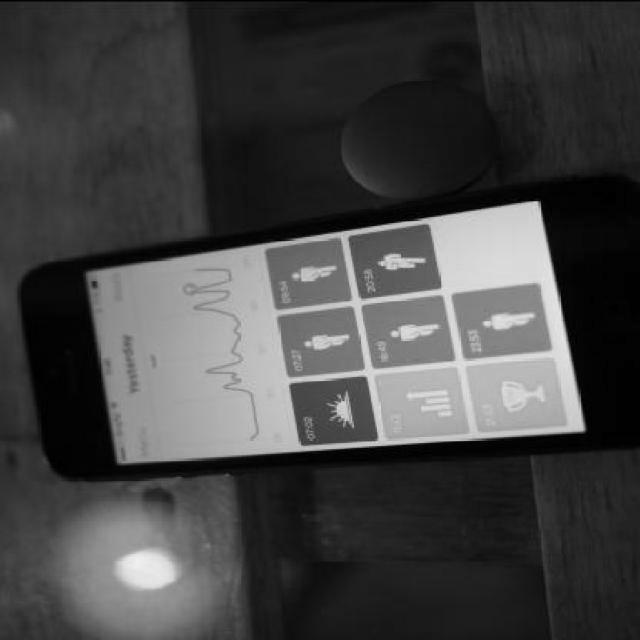fake: (22, 198, 628, 478)
